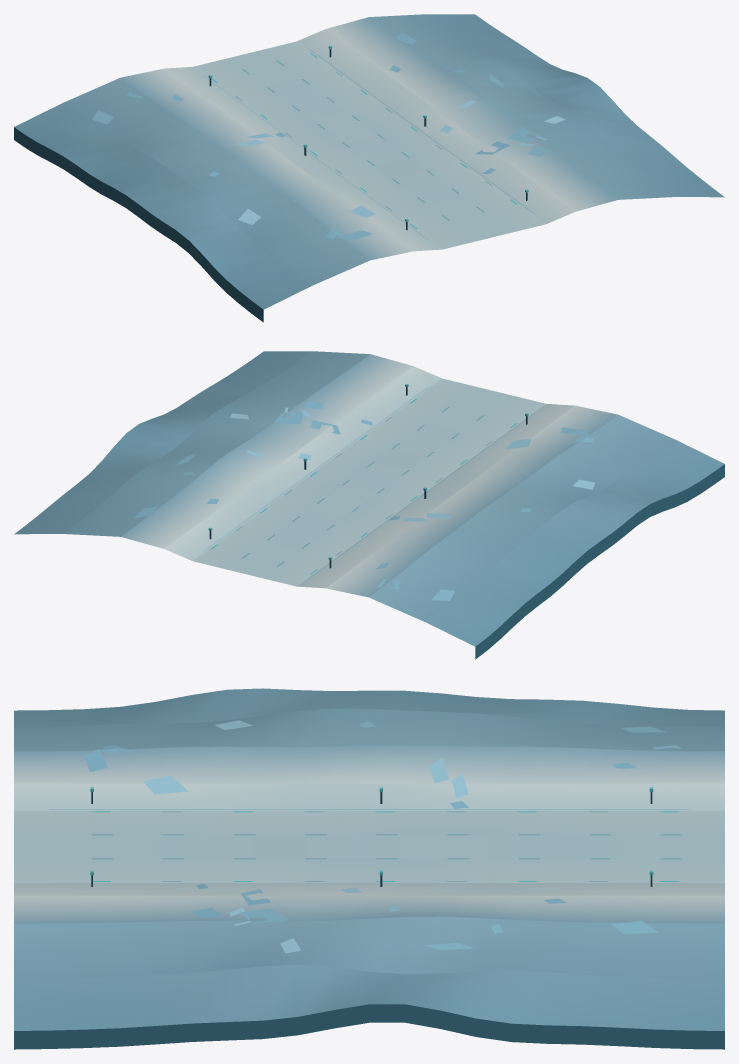
Rendered from 01-straight.glb.
3 views of the same model, one above another, from view 1: azimuth 30°, elevation 25°; view 2: azimuth 150°, elevation 25°; view 3: azimuth 270°, elevation 25° (orthographic). The views are drawn at different scales.
Visible parts, largest first — view 1: straight; view 2: straight; view 3: straight.
Part boxes in pixels (x1,y1,x2,y2): straight: [14, 14, 724, 322]; straight: [14, 351, 724, 659]; straight: [14, 688, 724, 1049].
Bounding box in the file's own units: 32 × 2.76 × 30.
